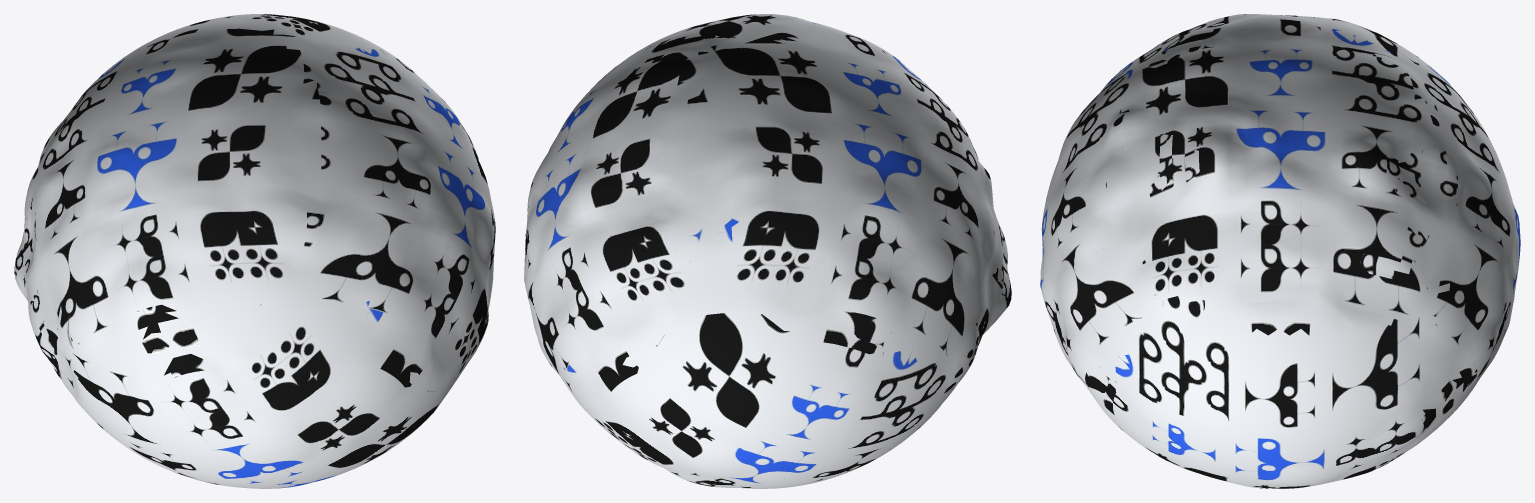
Rendered from 1999-rq36-asteroid.glb.
3 views of the same model, side by side, from view 1: azimuth 30°, elevation 25°; view 2: azimuth 150°, elevation 25°; view 3: azimuth 270°, elevation 25° (orthographic).
Parts seen in each view (by area): view 1: A; view 2: A; view 3: A.
Part boxes in pixels (x1=…): A: x1=14, y1=14, x2=495, y2=488; A: x1=524, y1=14, x2=1011, y2=488; A: x1=1040, y1=14, x2=1520, y2=488.
Bounding box in the file's own units: 2 × 1.93 × 1.94.
Materials: 1 (1 with a texture image).
